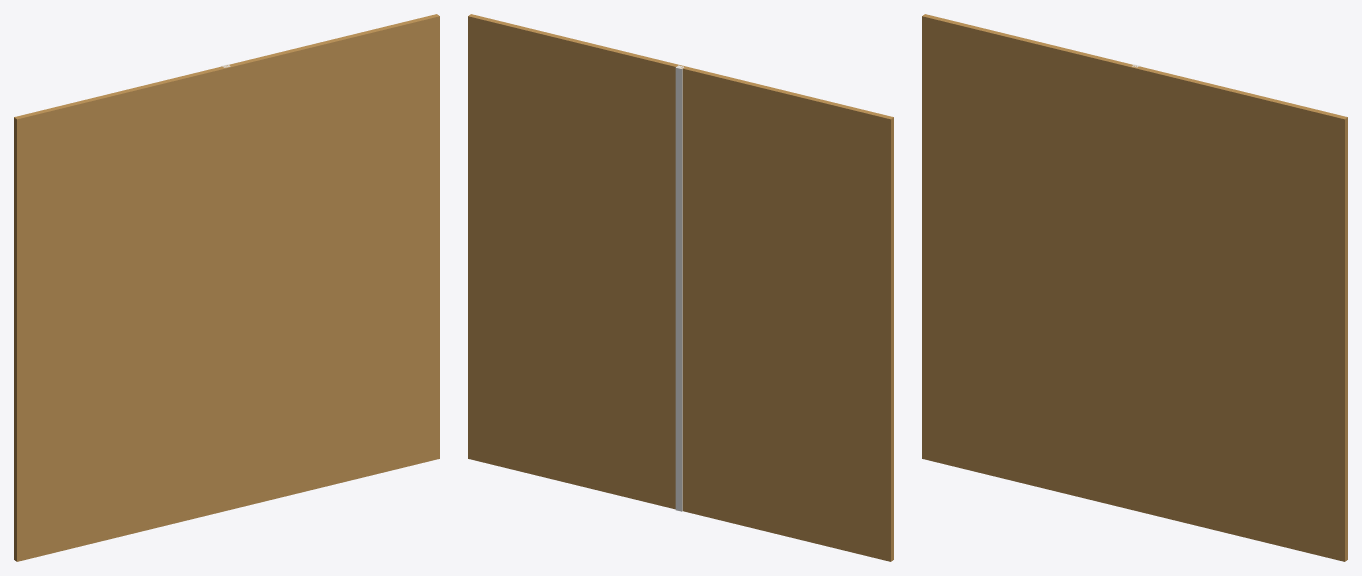
The model's file is pintu.glb.
The picture shows the model from 3 angles, left to right: view 1: azimuth 30°, elevation 25°; view 2: azimuth 150°, elevation 25°; view 3: azimuth 330°, elevation 25°; orthographic projection.
Bounding box in the file's own units: 4 × 4 × 0.0625.
